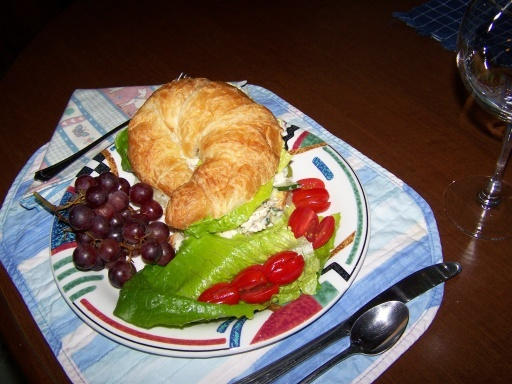background: (26, 46, 273, 197)
